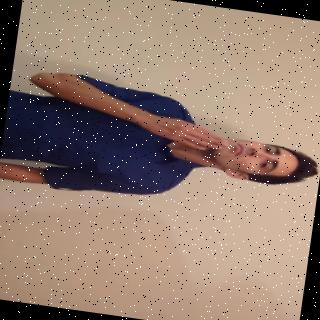ThankYou: (0, 65, 320, 224)
